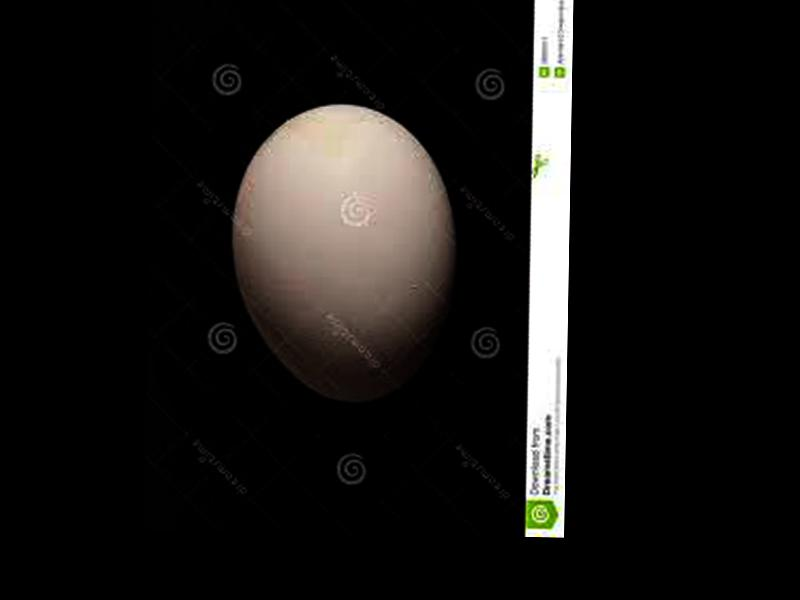Eggs: (229, 99, 458, 404)
